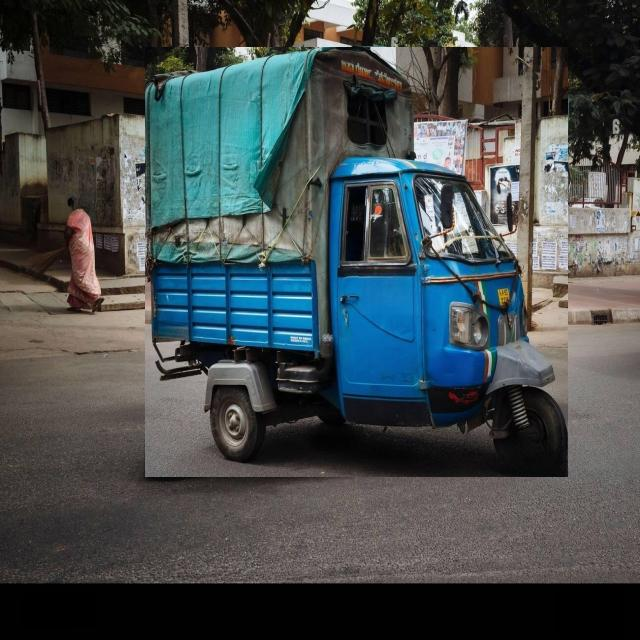truck: (145, 48, 568, 477)
